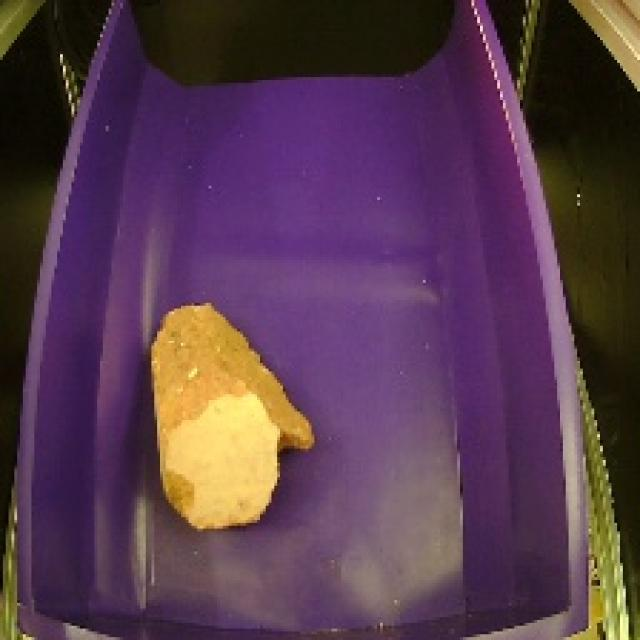brick: (143, 294, 323, 536)
